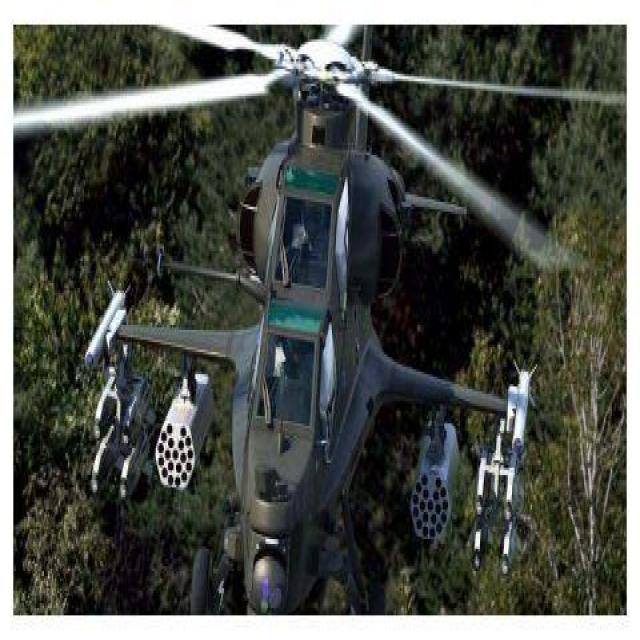MIL_HELO: (19, 15, 614, 627)
